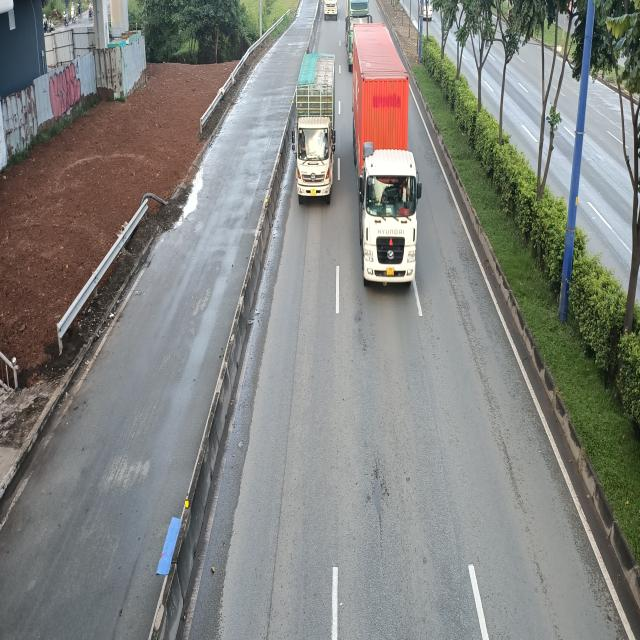container: (353, 29, 424, 294)
truck: (292, 50, 339, 203)
